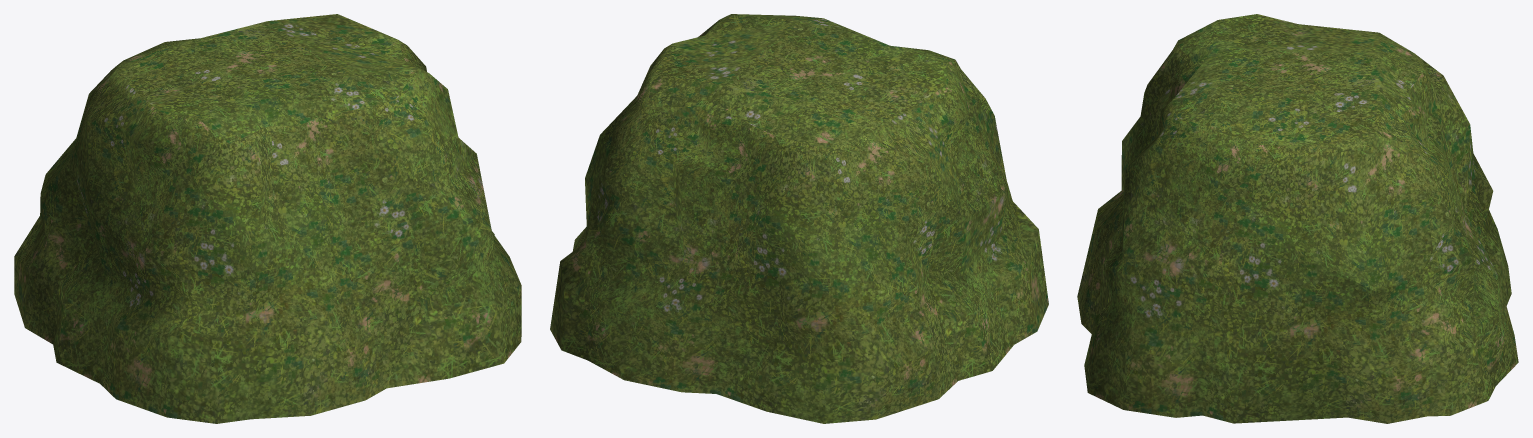
3 renders of one model, left to right at view 1: azimuth 30°, elevation 25°; view 2: azimuth 150°, elevation 25°; view 3: azimuth 270°, elevation 25°, orthographic.
Visible parts, largest first — view 1: t1_ar301_model_mesh; view 2: t1_ar301_model_mesh; view 3: t1_ar301_model_mesh.
Part boxes in pixels (x1=…): t1_ar301_model_mesh: x1=14, y1=14, x2=521, y2=423; t1_ar301_model_mesh: x1=550, y1=14, x2=1048, y2=423; t1_ar301_model_mesh: x1=1077, y1=14, x2=1518, y2=423.
Bounding box in the file's own units: 8.56 × 5.36 × 8.24.
1 material, 1 textured.
